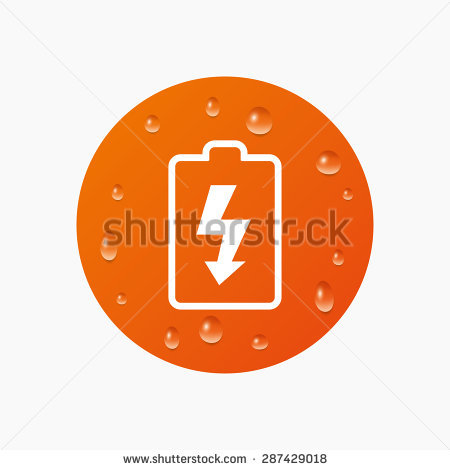charging sign: (159, 127, 295, 327)
